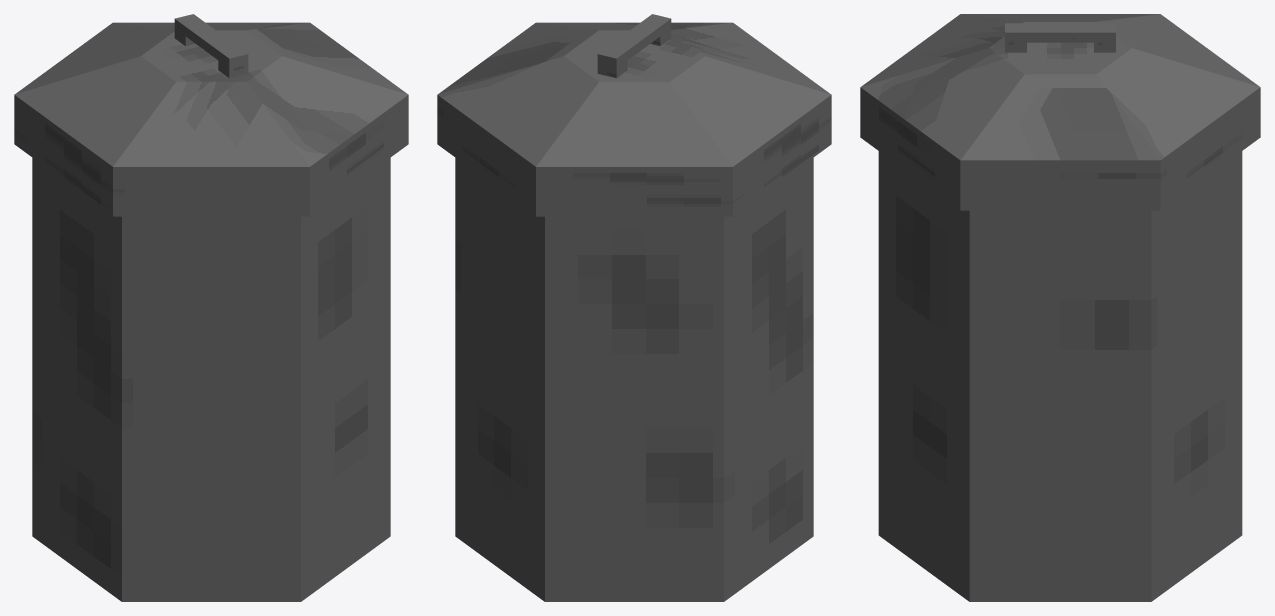
Rendered from TrashCan.fbx.
3 renders of one model, left to right at view 1: azimuth 30°, elevation 25°; view 2: azimuth 150°, elevation 25°; view 3: azimuth 270°, elevation 25°, orthographic.
Parts seen in each view (by area): view 1: Cube; view 2: Cube; view 3: Cube.
Part boxes in pixels (x1,y1,x2,y2): Cube: (14, 14, 408, 601); Cube: (437, 14, 831, 601); Cube: (860, 14, 1260, 601).
Bounding box in the file's own units: 156 × 252 × 180.
